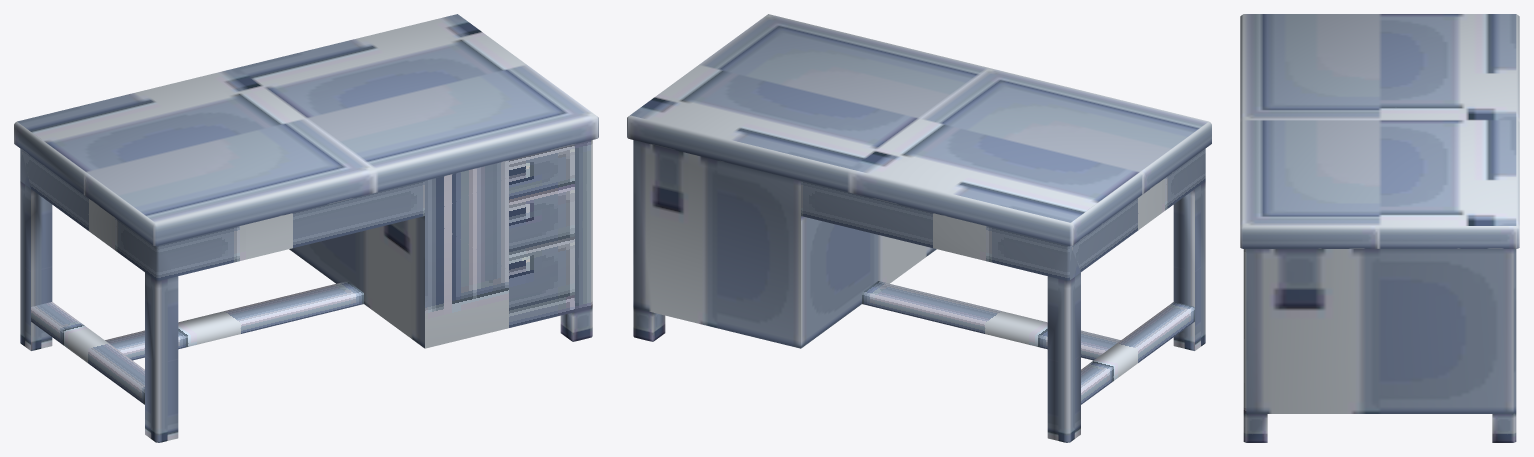
Rendered from int_ofc_tableM.dae.
3 renders of one model, left to right at view 1: azimuth 30°, elevation 25°; view 2: azimuth 150°, elevation 25°; view 3: azimuth 270°, elevation 25°, orthographic.
Visible parts, largest first — view 1: int_ofc_tableM; view 2: int_ofc_tableM; view 3: int_ofc_tableM.
Boxes of the visible parts, left/top/right/bottom form: int_ofc_tableM: left=14, top=14, right=598, bottom=442; int_ofc_tableM: left=627, top=14, right=1211, bottom=442; int_ofc_tableM: left=1240, top=14, right=1519, bottom=442.
Bounding box in the file's own units: 50.59 × 24 × 27.91.
2 materials, 2 textured.
